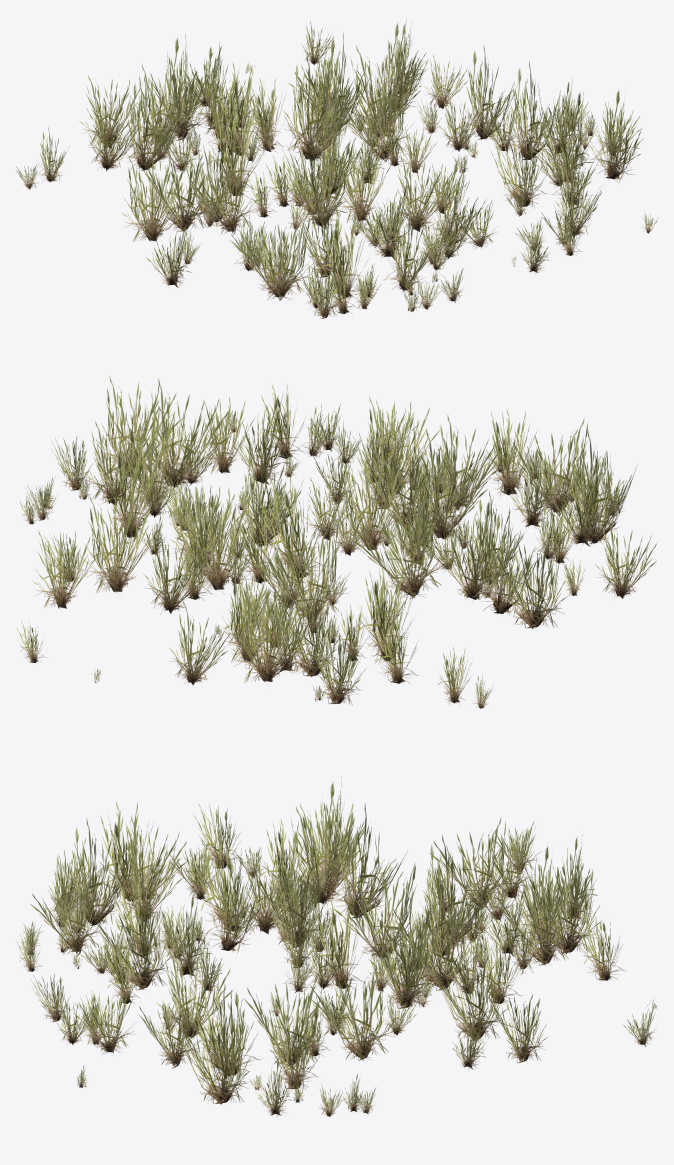
Rendered from grass_patch.glb.
3 renders of one model, top to bottom at view 1: azimuth 30°, elevation 25°; view 2: azimuth 150°, elevation 25°; view 3: azimuth 270°, elevation 25°, orthographic. The views are drawn at different scales.
Visible parts, largest first — view 1: grass_patch; view 2: grass_patch; view 3: grass_patch.
Boxes of the visible parts, x1,y1,x2,y2 form: grass_patch: (16, 20, 658, 318); grass_patch: (17, 376, 656, 708); grass_patch: (16, 777, 657, 1116).
Bounding box in the file's own units: 2.59 × 0.7453 × 2.54.
Materials: 1 (1 with a texture image).
